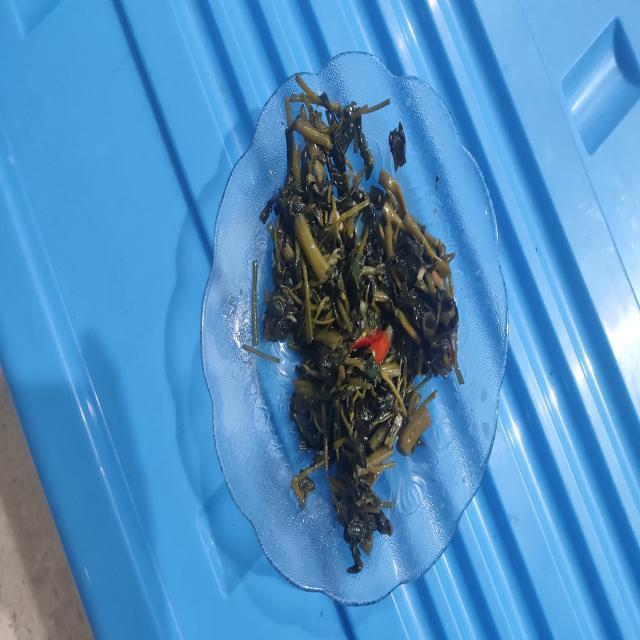tumis_kangkung: (261, 85, 458, 554)
